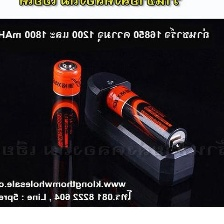battery: (102, 82, 189, 155), (47, 56, 85, 159)
